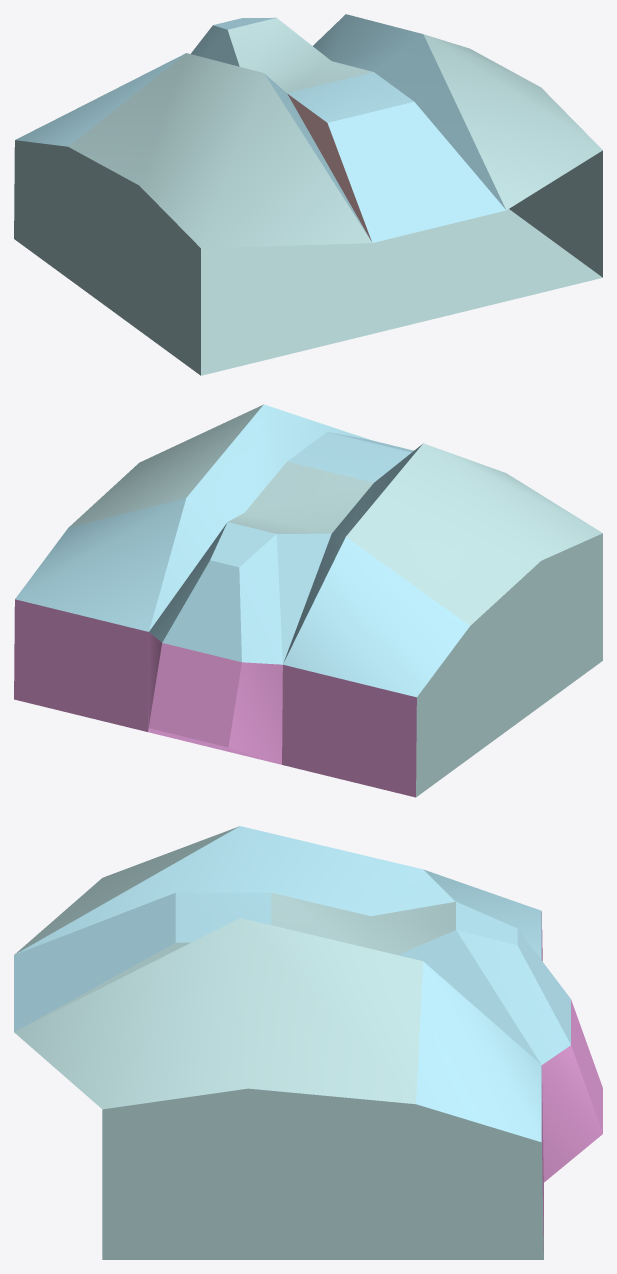
3 views of the same model, one above another, from view 1: azimuth 30°, elevation 25°; view 2: azimuth 150°, elevation 25°; view 3: azimuth 270°, elevation 25° (orthographic). The views are drawn at different scales.
Visible parts, largest first — view 1: Object19; view 2: Object19; view 3: Object19.
Boxes of the visible parts, x1=… form: Object19: x1=14, y1=14, x2=602, y2=375; Object19: x1=14, y1=404, x2=602, y2=797; Object19: x1=14, y1=826, x2=602, y2=1259.
Size of the model in its own units: 30000 by 16439 by 32241.
